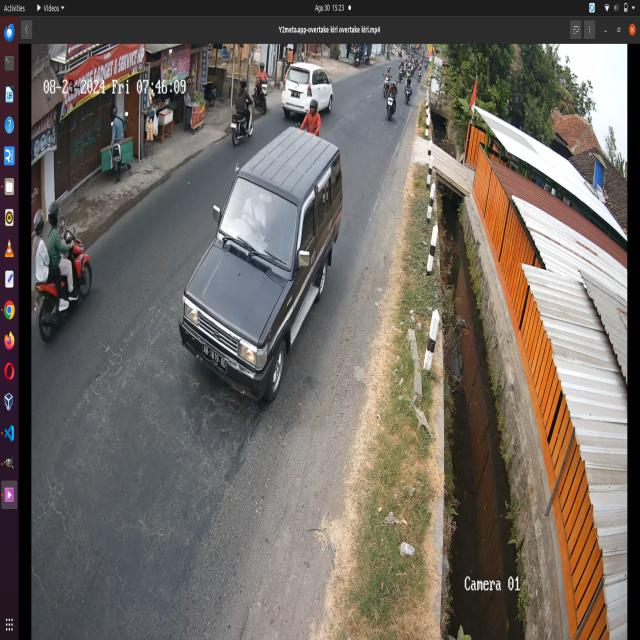person_with_seatbelt: (234, 177, 278, 241)
